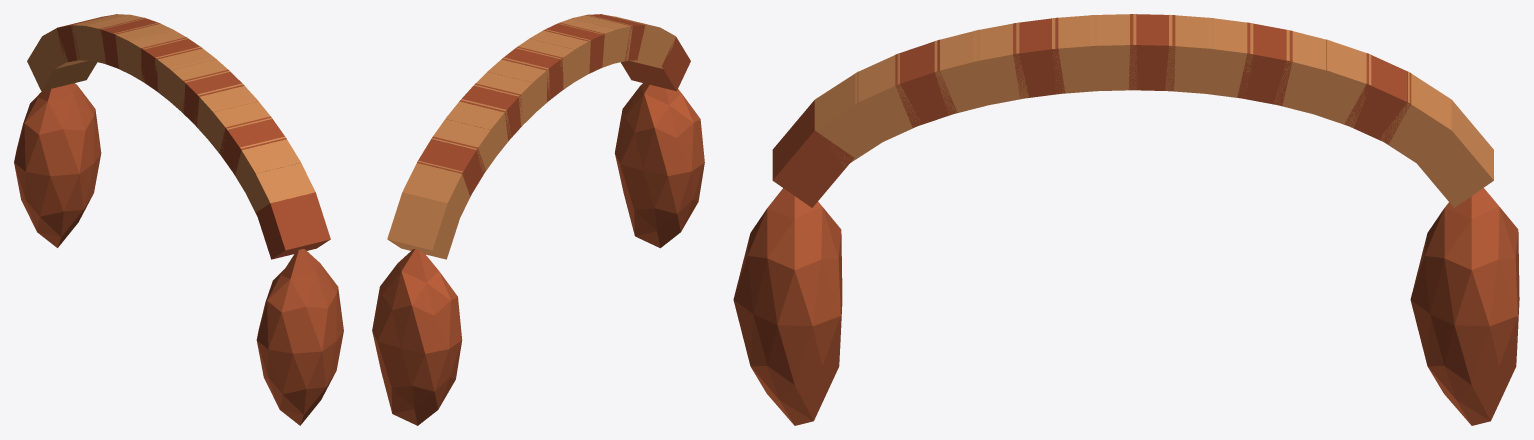
Rendered from CanyonArch.glb.
The picture shows the model from 3 angles, left to right: view 1: azimuth 30°, elevation 25°; view 2: azimuth 150°, elevation 25°; view 3: azimuth 270°, elevation 25°; orthographic projection. The views are drawn at different scales.
Visible parts, largest first — view 1: CanyonArch; view 2: CanyonArch; view 3: CanyonArch.
Part boxes in pixels (x1,y1,x2,y2): CanyonArch: (14, 14, 343, 425); CanyonArch: (372, 14, 704, 425); CanyonArch: (733, 14, 1519, 425).
Bounding box in the file's own units: 32.42 × 114 × 204.
